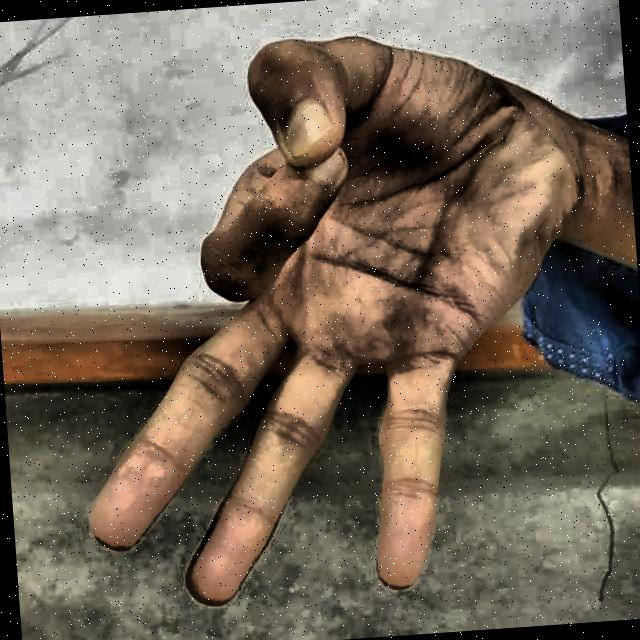Fa: (44, 7, 608, 638)
